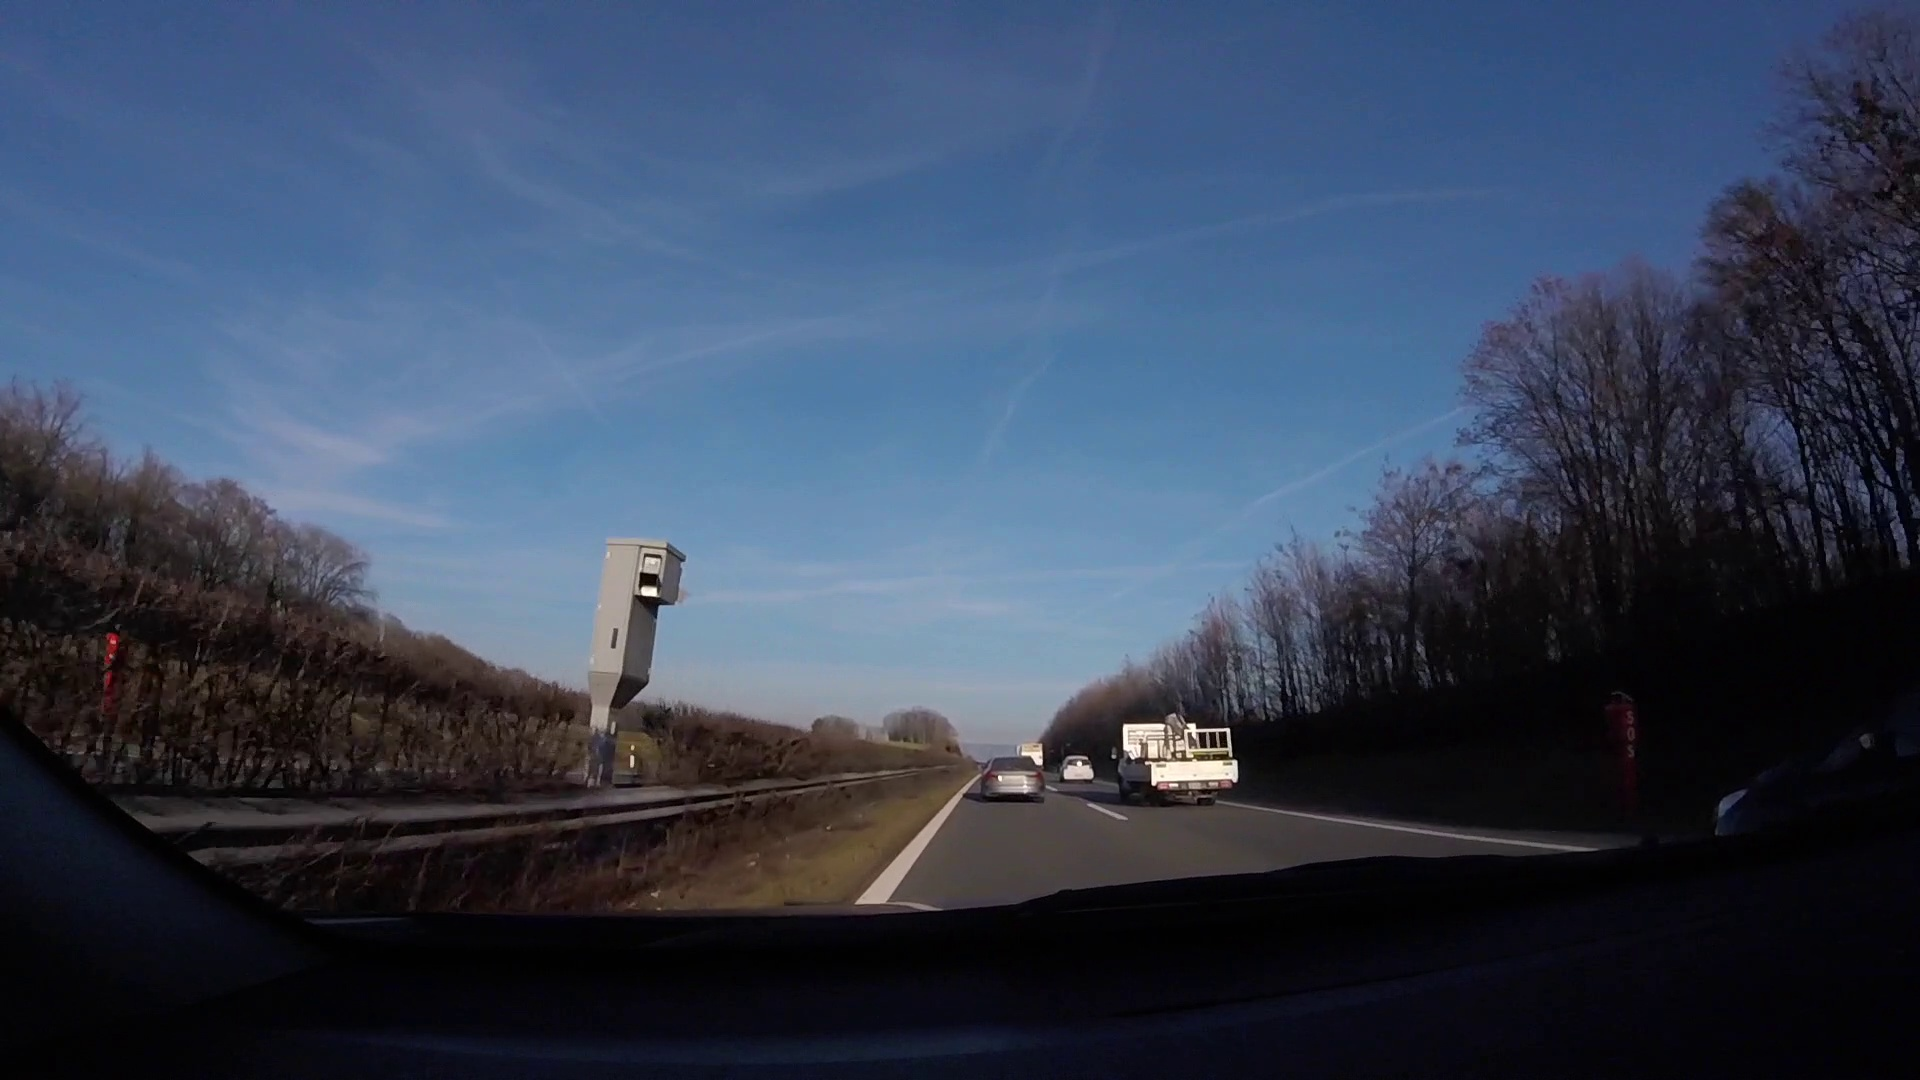radar: (585, 538, 687, 737)
